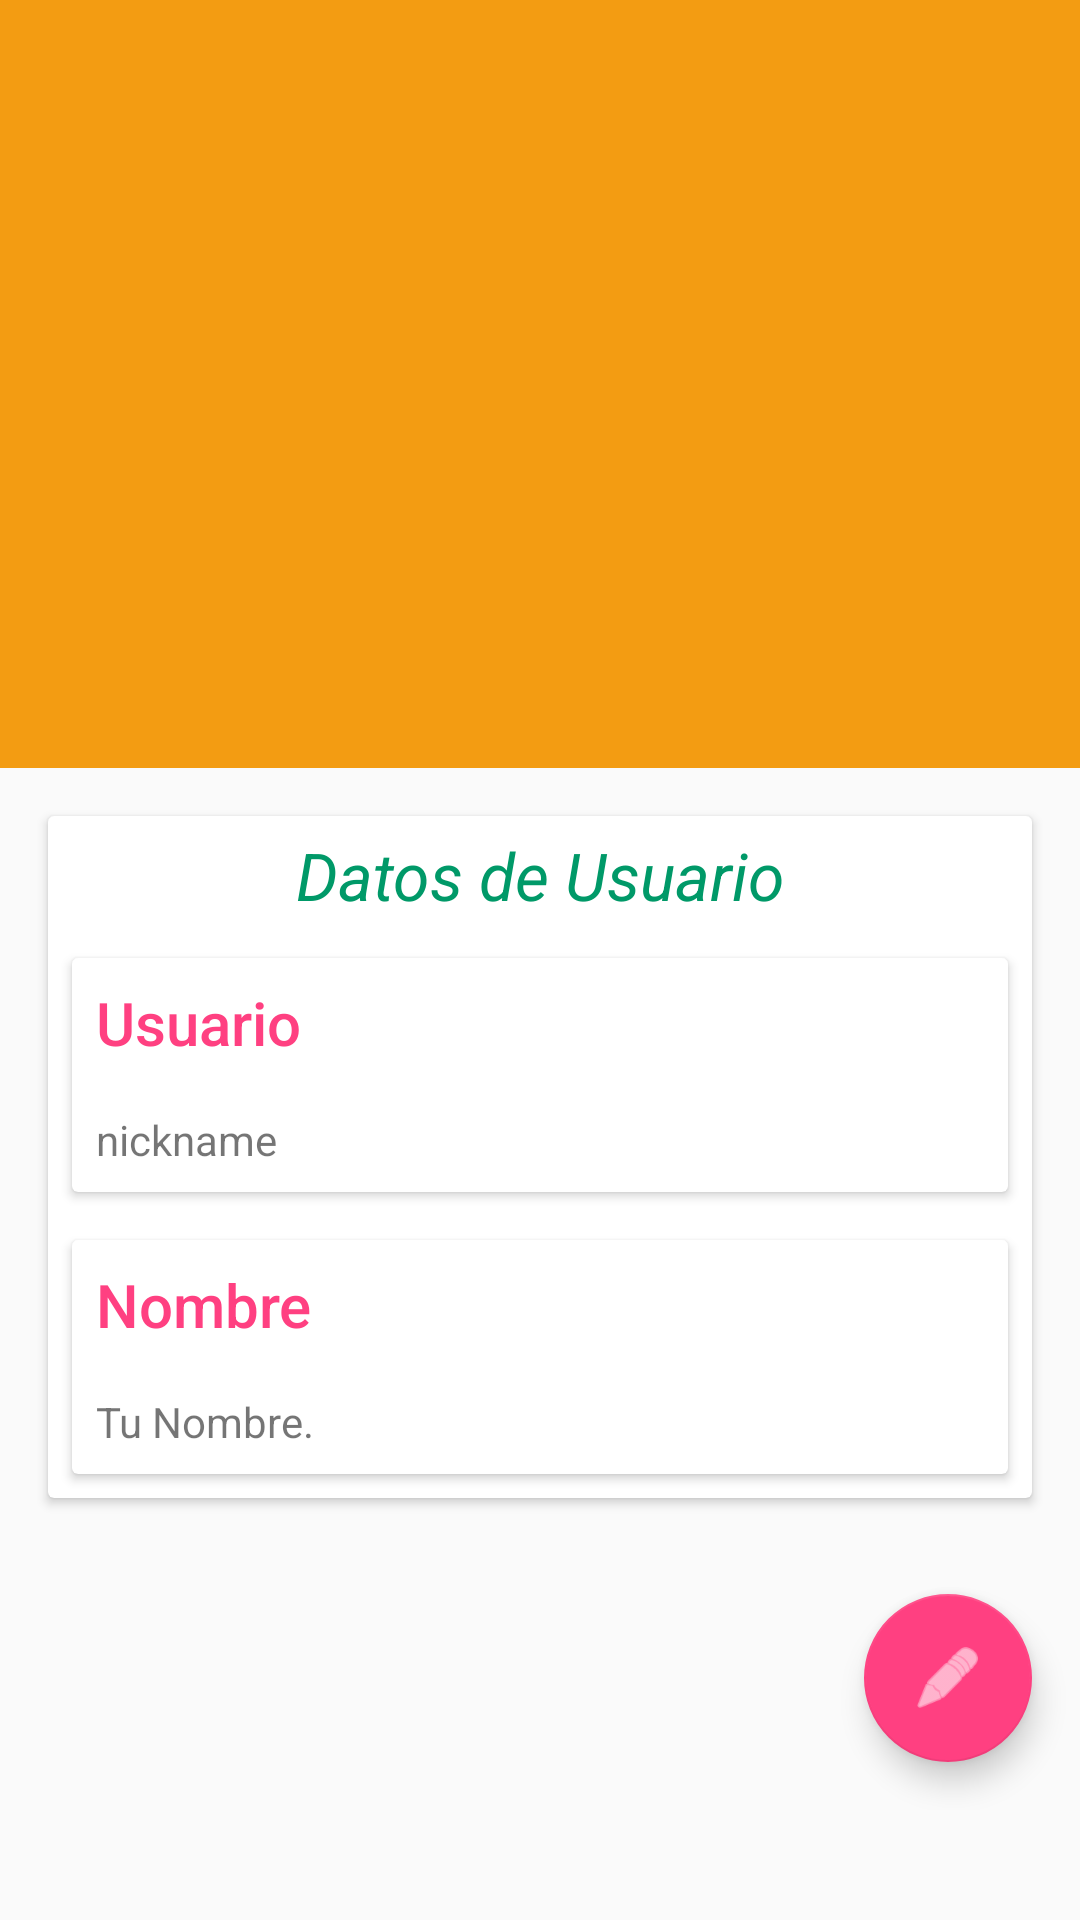

Icon bounding boxes for this 1080px x 1920px phone screenshot, format (x1, y1, x2, y2):
edit: (864, 1594, 1032, 1762)
